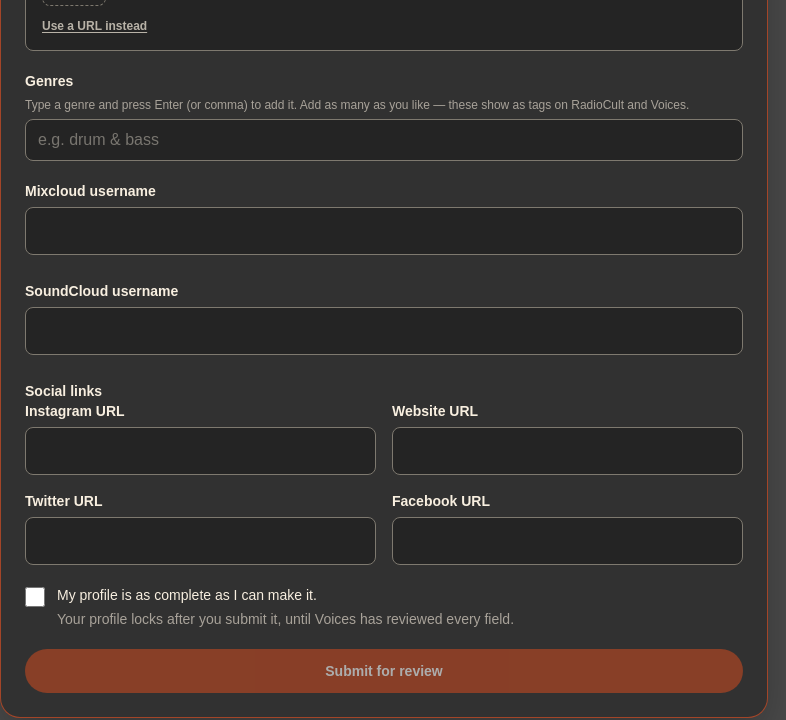
Test case: ArtistProfileForm submit safety › keeps the submit button disabled until the DJ ticks the check box
The width and height of the screenshot is (786, 720).
(page scrolled)
Expected: the button "Submit for review" is disabled, x1=25 y1=649 x2=743 y2=693
Click the checkbox labelled "as complete as I can make it". click: click(35, 597)
box: x1=25 y1=587 x2=45 y2=607
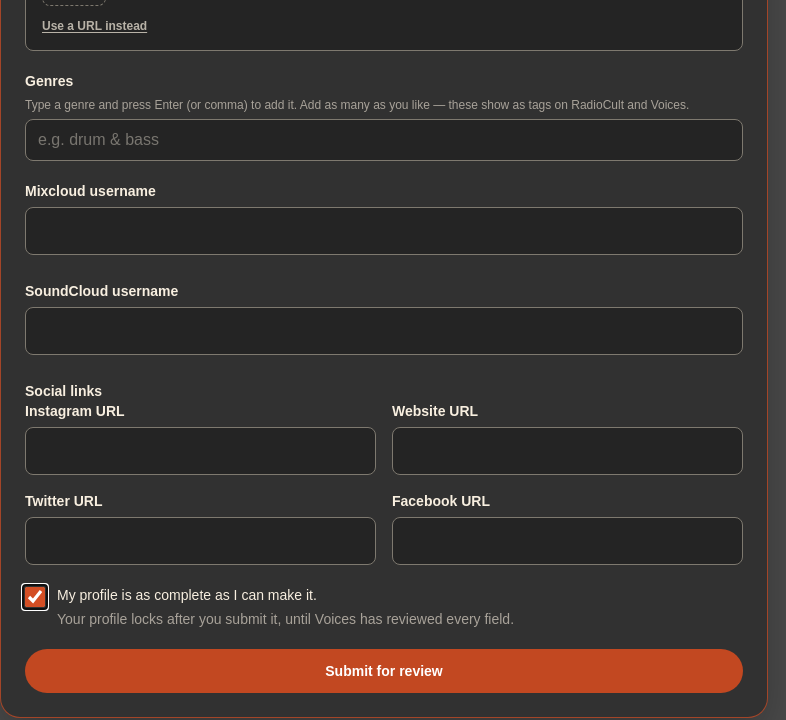
Now the button "Submit for review" is enabled, box x1=25 y1=649 x2=743 y2=693
